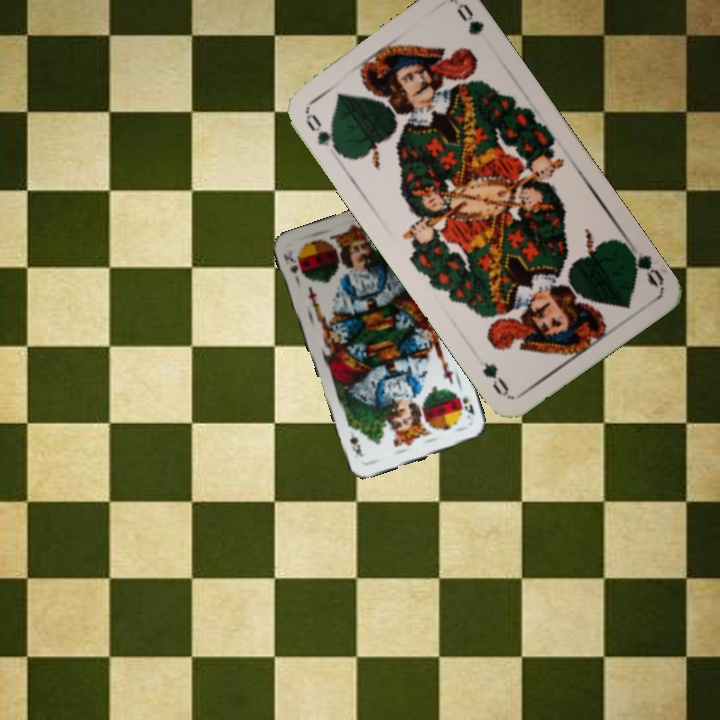GO: (620, 238, 667, 289), (301, 108, 344, 158)
SK: (279, 246, 302, 286), (458, 393, 477, 421)
